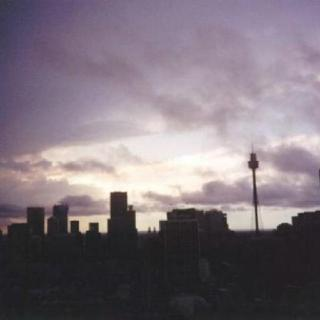Stratus: (4, 0, 320, 212)
